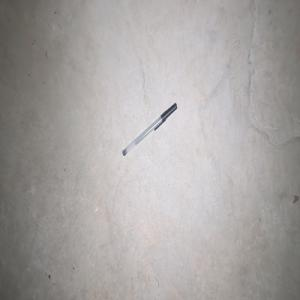Pen: (122, 102, 177, 156)
